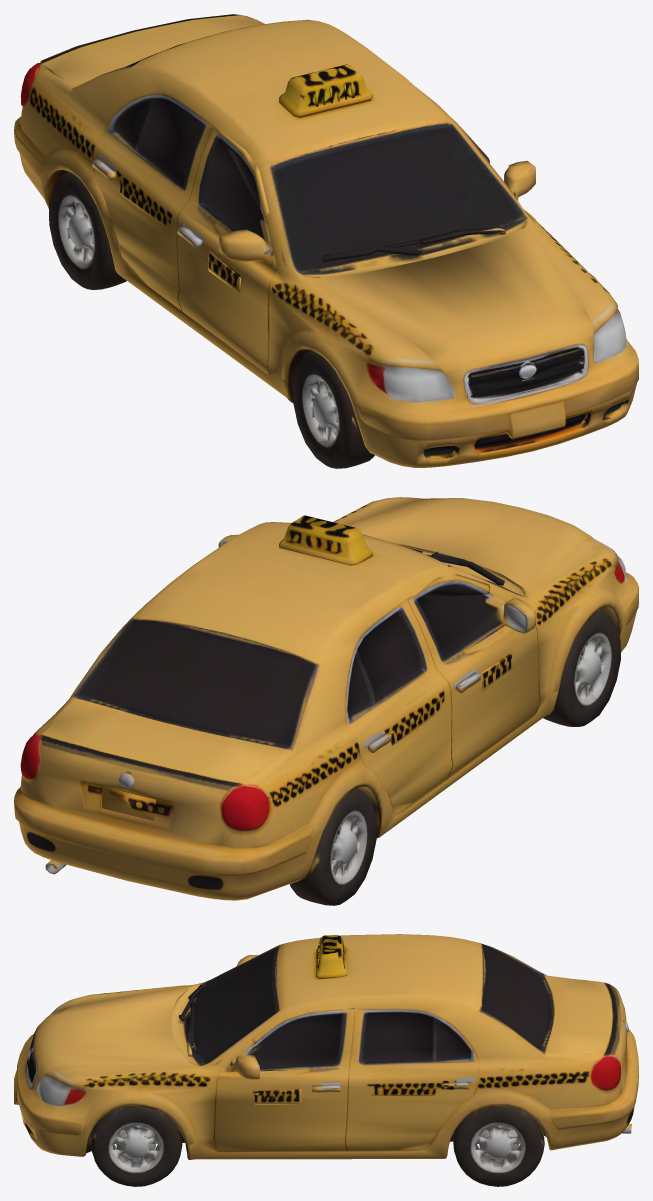
Rendered from Vehicles__a_taxi_cab_88be8bf6_v2.cluster.glb.
3 renders of one model, top to bottom at view 1: azimuth 30°, elevation 25°; view 2: azimuth 150°, elevation 25°; view 3: azimuth 270°, elevation 25°, orthographic. The views are drawn at different scales.
Parts seen in each view (by area): view 1: material; view 2: material; view 3: material.
Part boxes in pixels (x1,y1,x2,y2): material: (14, 14, 638, 468); material: (14, 497, 638, 905); material: (14, 934, 638, 1186).
Size of the model in its own units: 0.8143 by 0.6561 by 1.9.
Materials: 1 (1 with a texture image).
